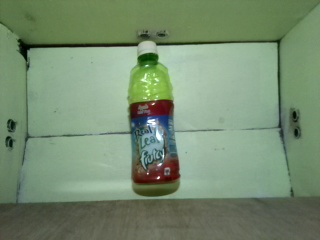bottle: (125, 40, 180, 194)
